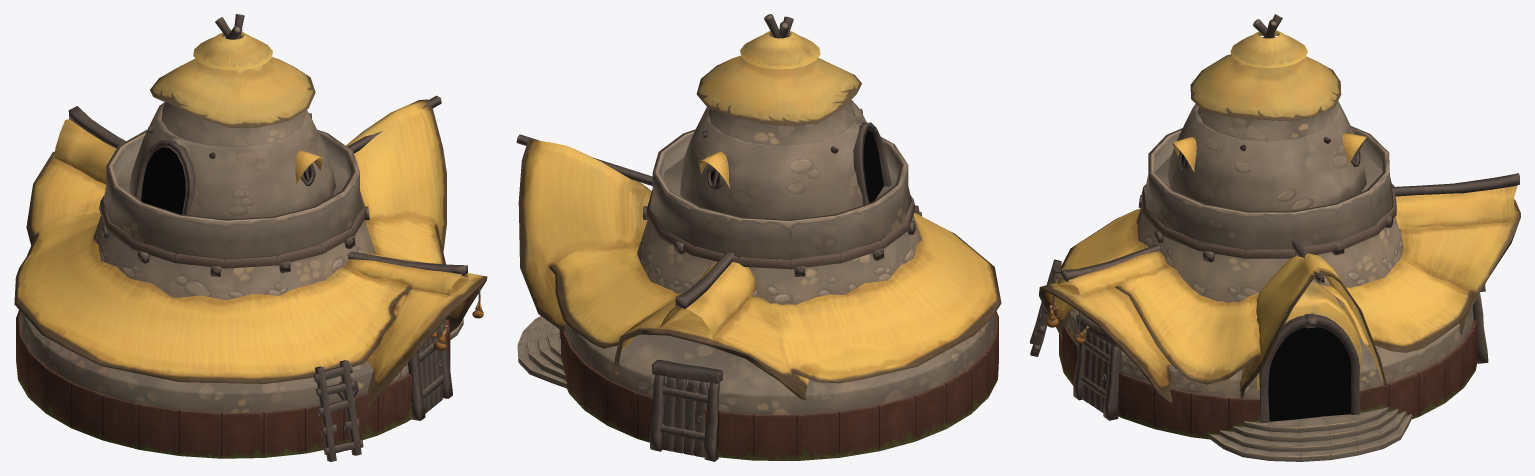
File: EN_TD_HouseMarket2_GLTF.gltf
3 renders of one model, left to right at view 1: azimuth 30°, elevation 25°; view 2: azimuth 150°, elevation 25°; view 3: azimuth 270°, elevation 25°, orthographic. The views are drawn at different scales.
Visible parts, largest first — view 1: EN_HouseMarket1; view 2: EN_HouseMarket1; view 3: EN_HouseMarket1.
Boxes of the visible parts, x1,y1,x2,y2 form: EN_HouseMarket1: (14,14,487,461); EN_HouseMarket1: (516,14,1001,461); EN_HouseMarket1: (1030,14,1520,461).
Bounding box in the file's own units: 8.58 × 6.96 × 8.87.
Materials: 1 (1 with a texture image).
